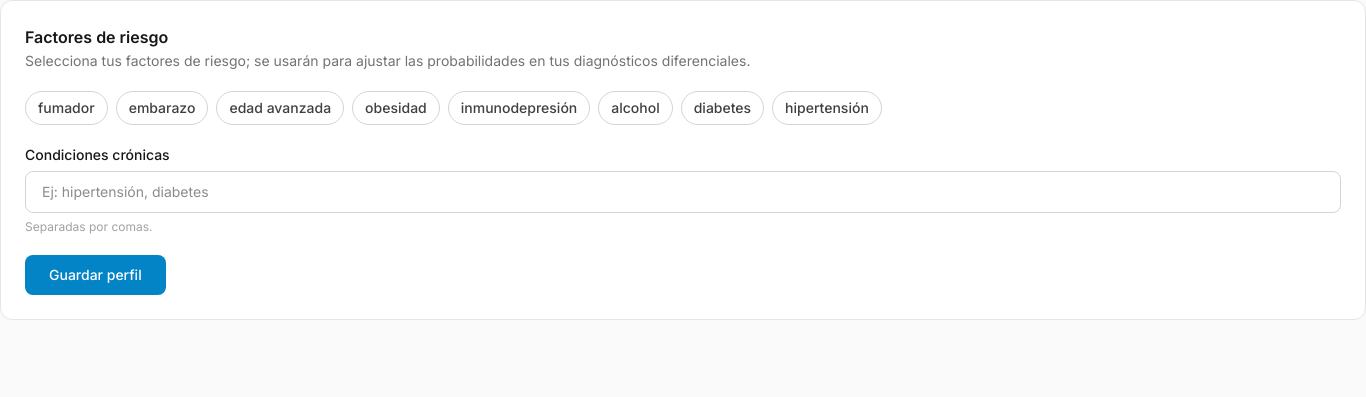
Test: ProfileEditor › guarda el perfil y muestra confirmación
Step 1. Click the button "diabetes" → x=722, y=108, box [681,91,764,125]
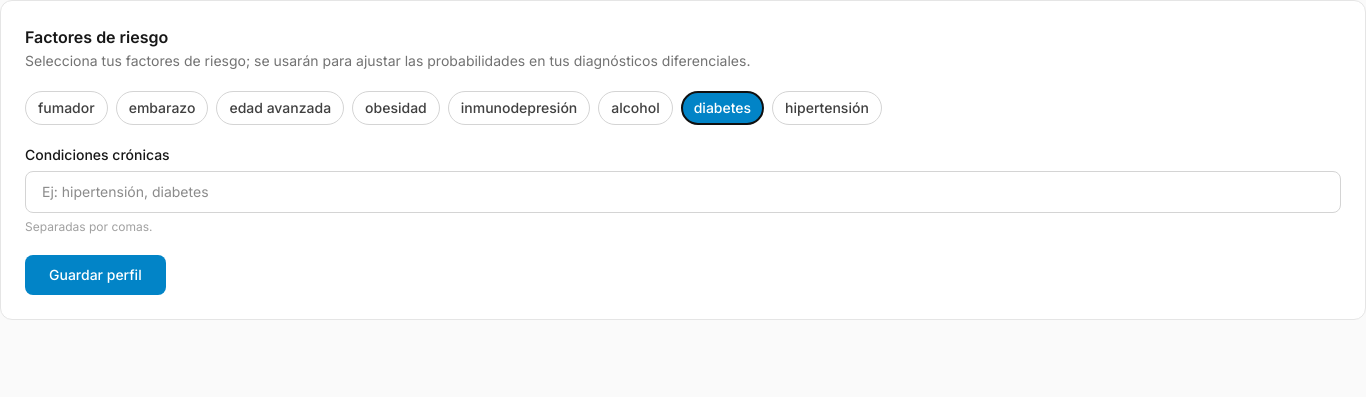
Step 2. Click the button "Guardar perfil" → x=95, y=275, box [25,255,166,295]
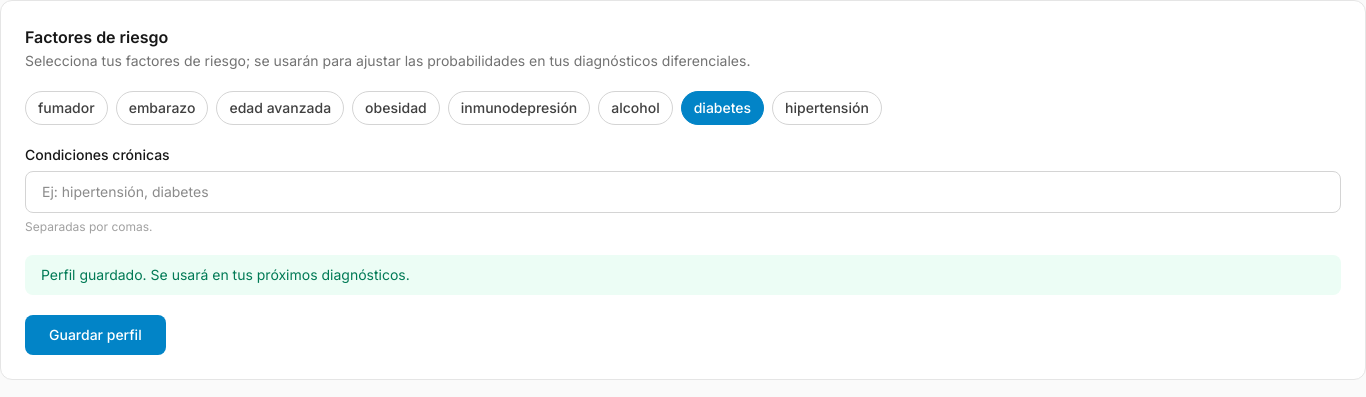
Expected: the text "Perfil guardado. Se usará en tus próximos diagnósticos." is shown, [25,255,1341,295]
